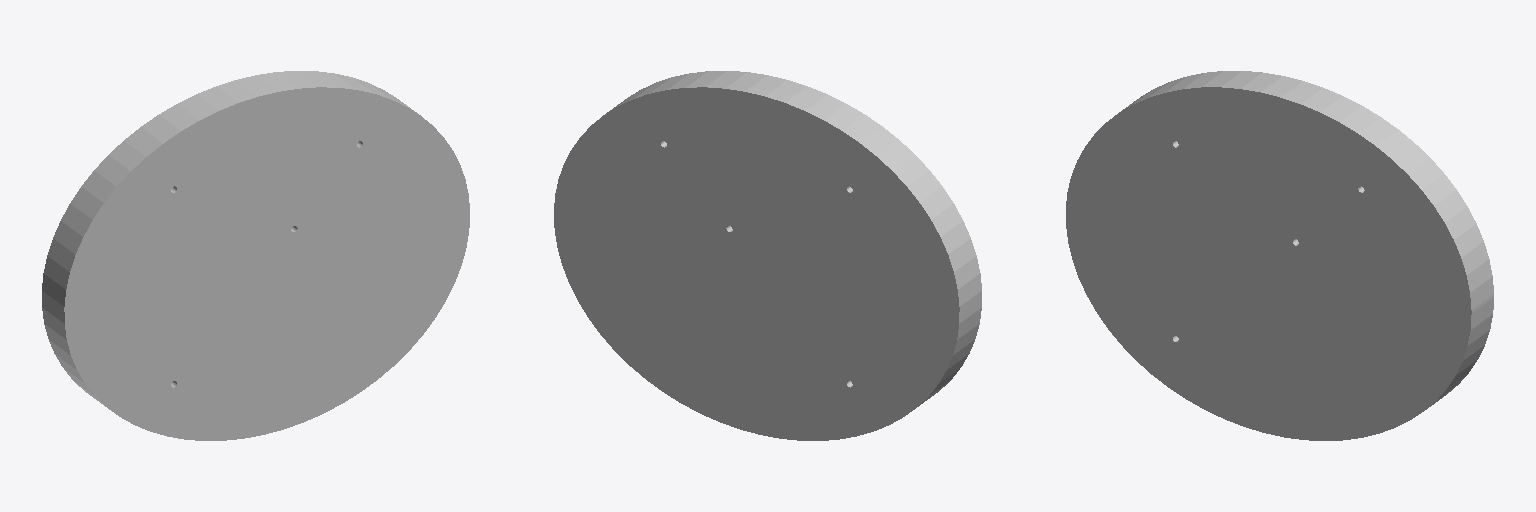
The model's file is ellip2.obj.
3 views of the same model, side by side, from view 1: azimuth 30°, elevation 25°; view 2: azimuth 150°, elevation 25°; view 3: azimuth 330°, elevation 25° (orthographic).
Parts seen in each view (by area): view 1: StainlessSteel_ellip2; view 2: StainlessSteel_ellip2; view 3: StainlessSteel_ellip2.
Boxes of the visible parts, <box> form: StainlessSteel_ellip2: <box>42,71,469,440</box>; StainlessSteel_ellip2: <box>554,71,981,440</box>; StainlessSteel_ellip2: <box>1066,71,1493,440</box>.
Bounding box in the file's own units: 0.131 × 0.1048 × 0.0127.